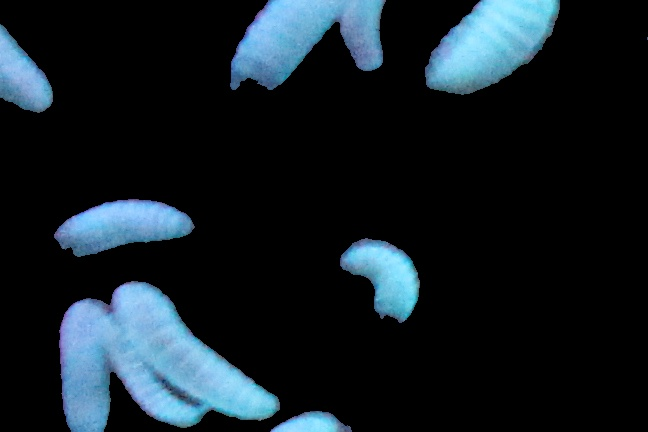larvae: (116, 280, 278, 419), (421, 1, 564, 91), (226, 1, 344, 103), (98, 311, 203, 424), (55, 295, 120, 432), (339, 235, 417, 334), (51, 199, 191, 251), (1, 1, 56, 112), (347, 1, 394, 74)
